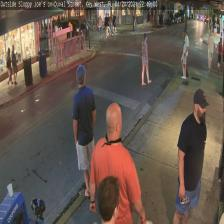person: (88, 102, 145, 224), (72, 63, 96, 199), (97, 176, 119, 224)
